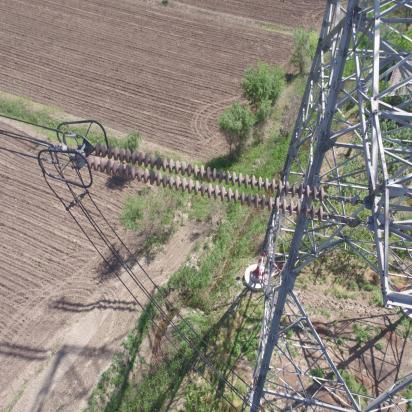insulator: (81, 141, 347, 223)
